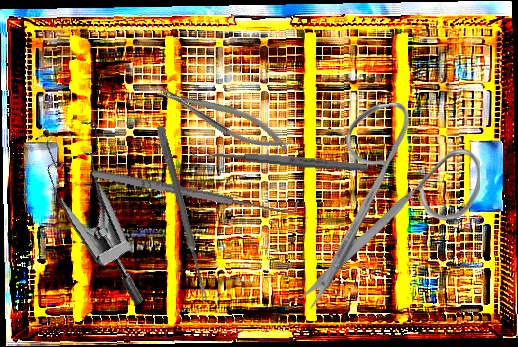Hook Surgical: (90, 160, 300, 220)
Iris Scissors: (296, 101, 483, 311)
Needle Holder: (152, 73, 295, 162)
Speculum: (6, 102, 206, 308)
Surgical Spoon: (155, 125, 211, 304), (191, 146, 370, 174)
